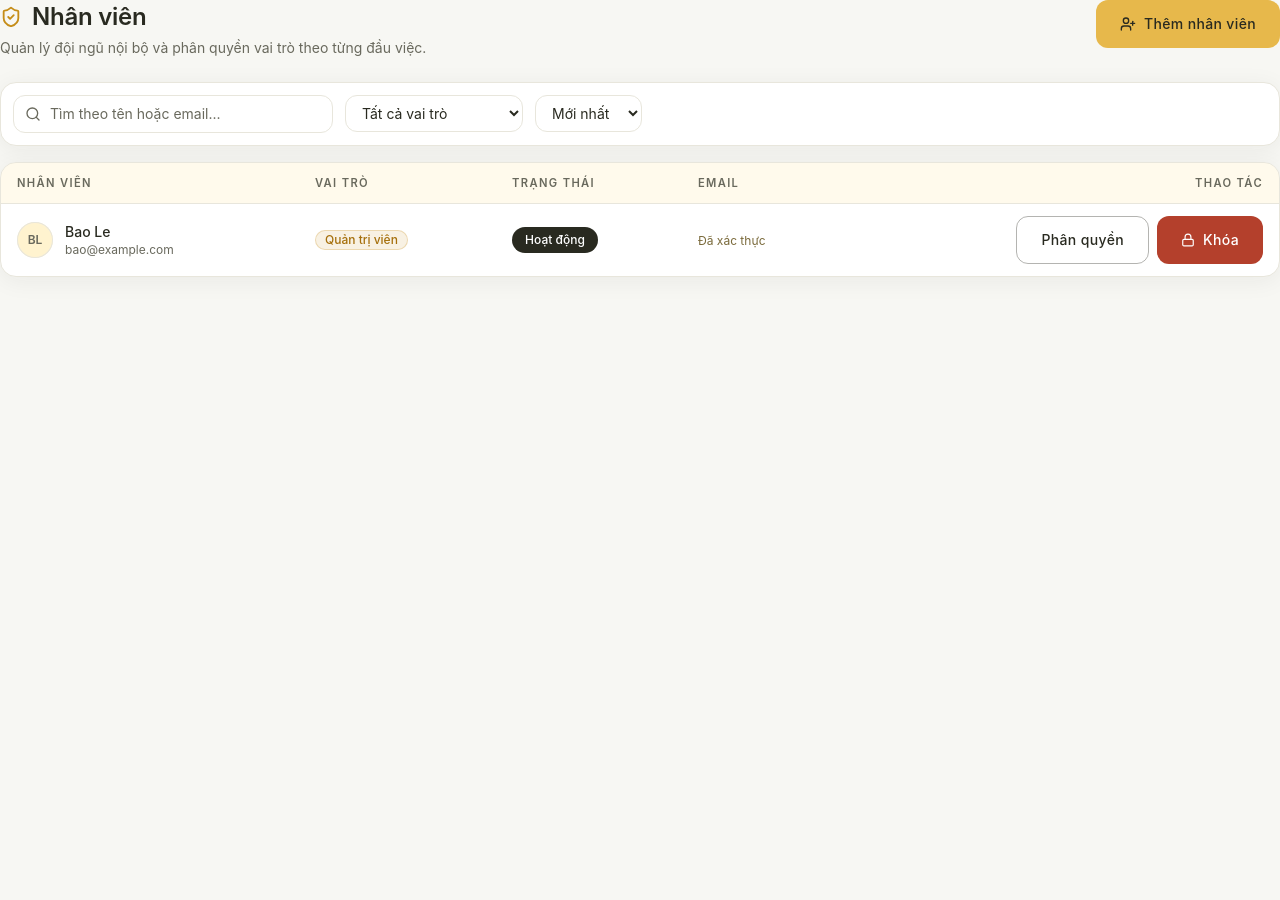
Test: AdminEmployeesPage › opens the add-employee dialog
This screenshot has width=1280, height=900.
Expected: the text "Bao Le" is shown, [65,223,110,240]
Step 1. Click the button "Thêm nhân viên" → coordinates (1188, 24), box [1096,0,1279,48]
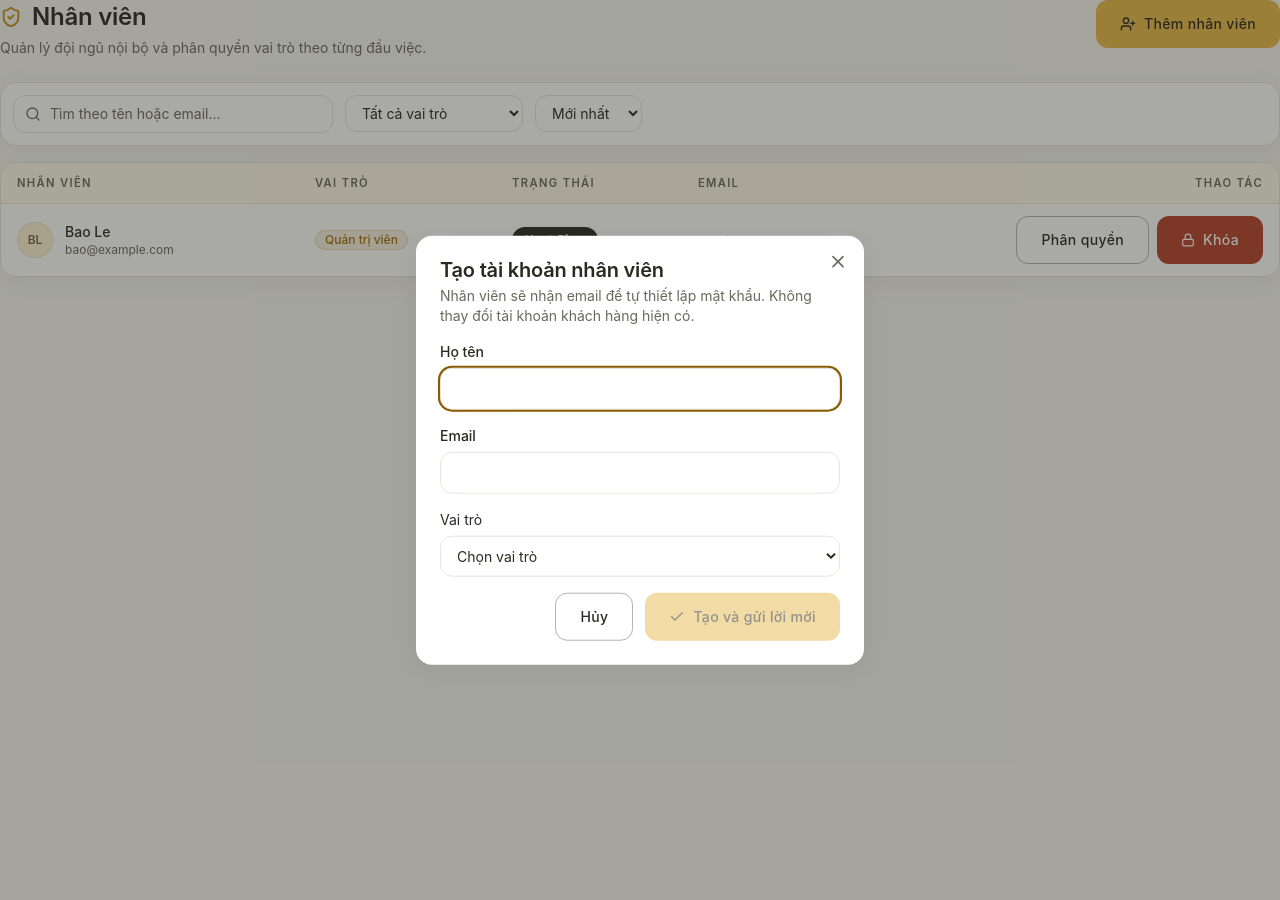
Expected: the text "Nhân viên sẽ nhận email" is shown, [440,286,812,323]
